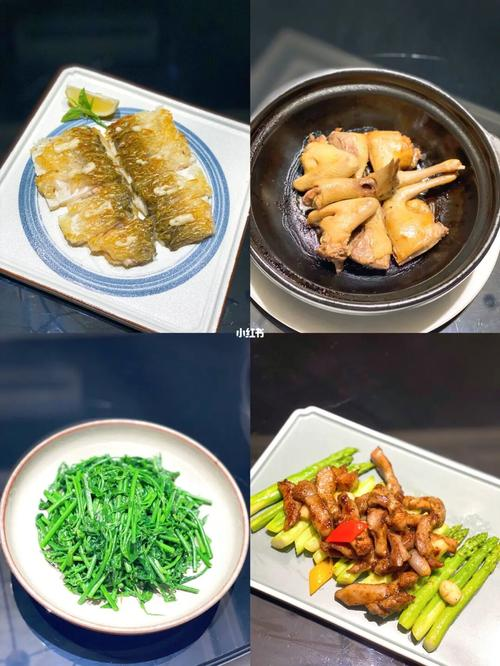food: (245, 62, 482, 306), (7, 398, 243, 628), (250, 419, 480, 637), (18, 73, 229, 293)
